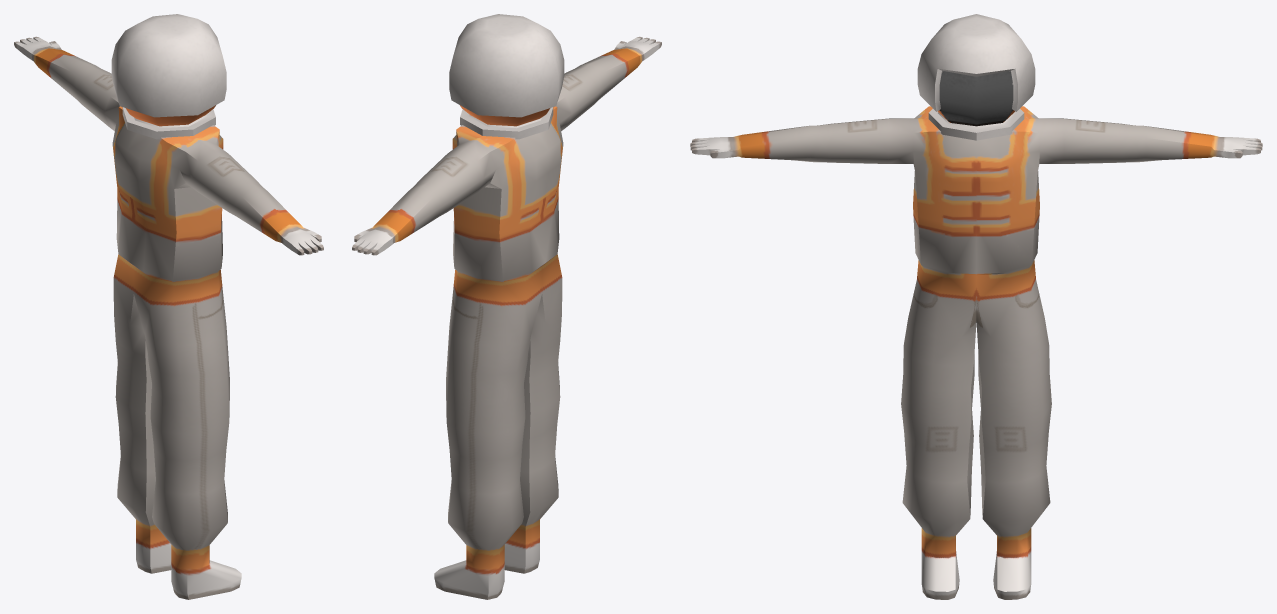
Rendered from PROP_070_SpaceSuit.fbx.
3 views of the same model, side by side, from view 1: azimuth 30°, elevation 25°; view 2: azimuth 150°, elevation 25°; view 3: azimuth 270°, elevation 25° (orthographic).
Parts seen in each view (by area): view 1: Circle_009; view 2: Circle_009; view 3: Circle_009.
Part boxes in pixels (x1=…): Circle_009: x1=14, y1=14, x2=323, y2=599; Circle_009: x1=352, y1=14, x2=661, y2=599; Circle_009: x1=690, y1=14, x2=1262, y2=599.
Bounding box in the file's own units: 0.4349 × 2.22 × 2.1.
Materials: 1 (1 with a texture image).
